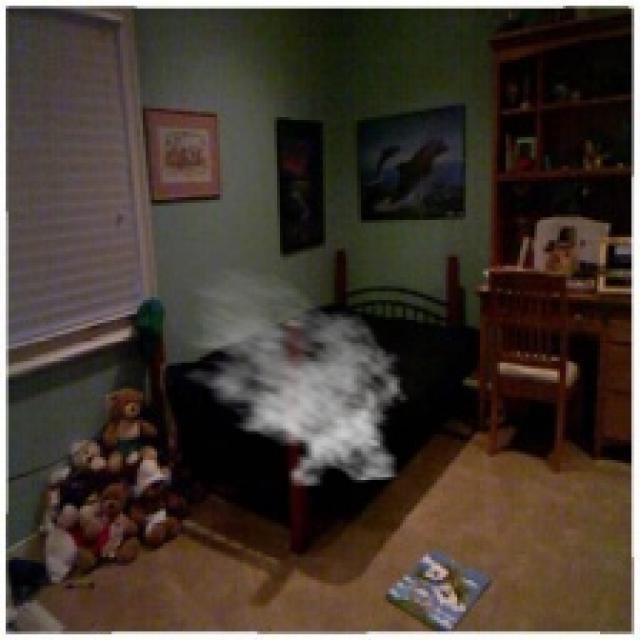Smoke: (172, 266, 412, 488)
